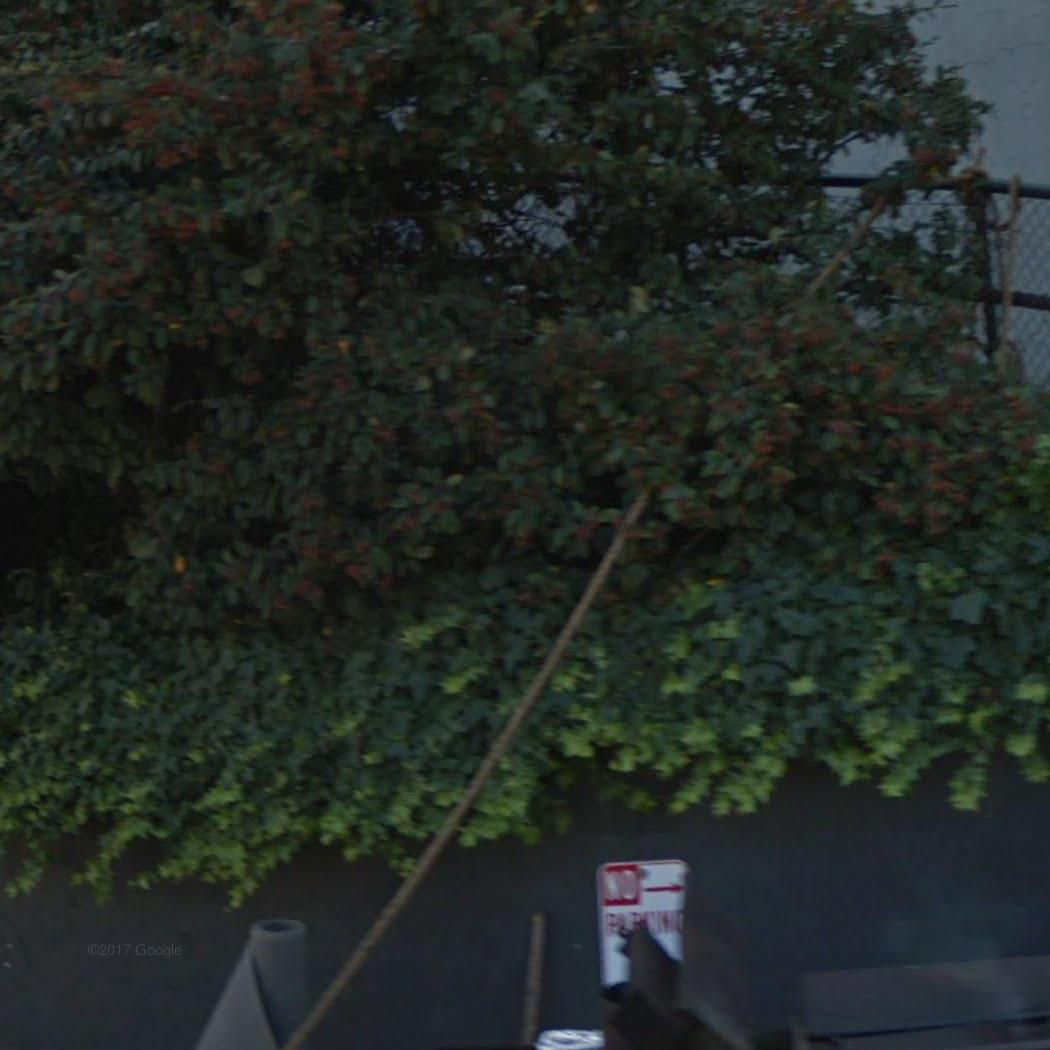No Parking Anytime: (592, 852, 692, 993)
